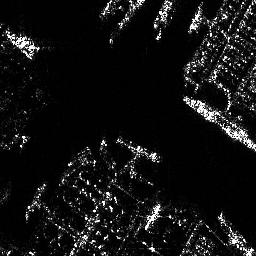ship: (217, 213, 252, 256), (112, 137, 160, 164), (183, 97, 218, 123), (186, 4, 204, 34), (144, 203, 162, 231), (152, 1, 171, 27)
